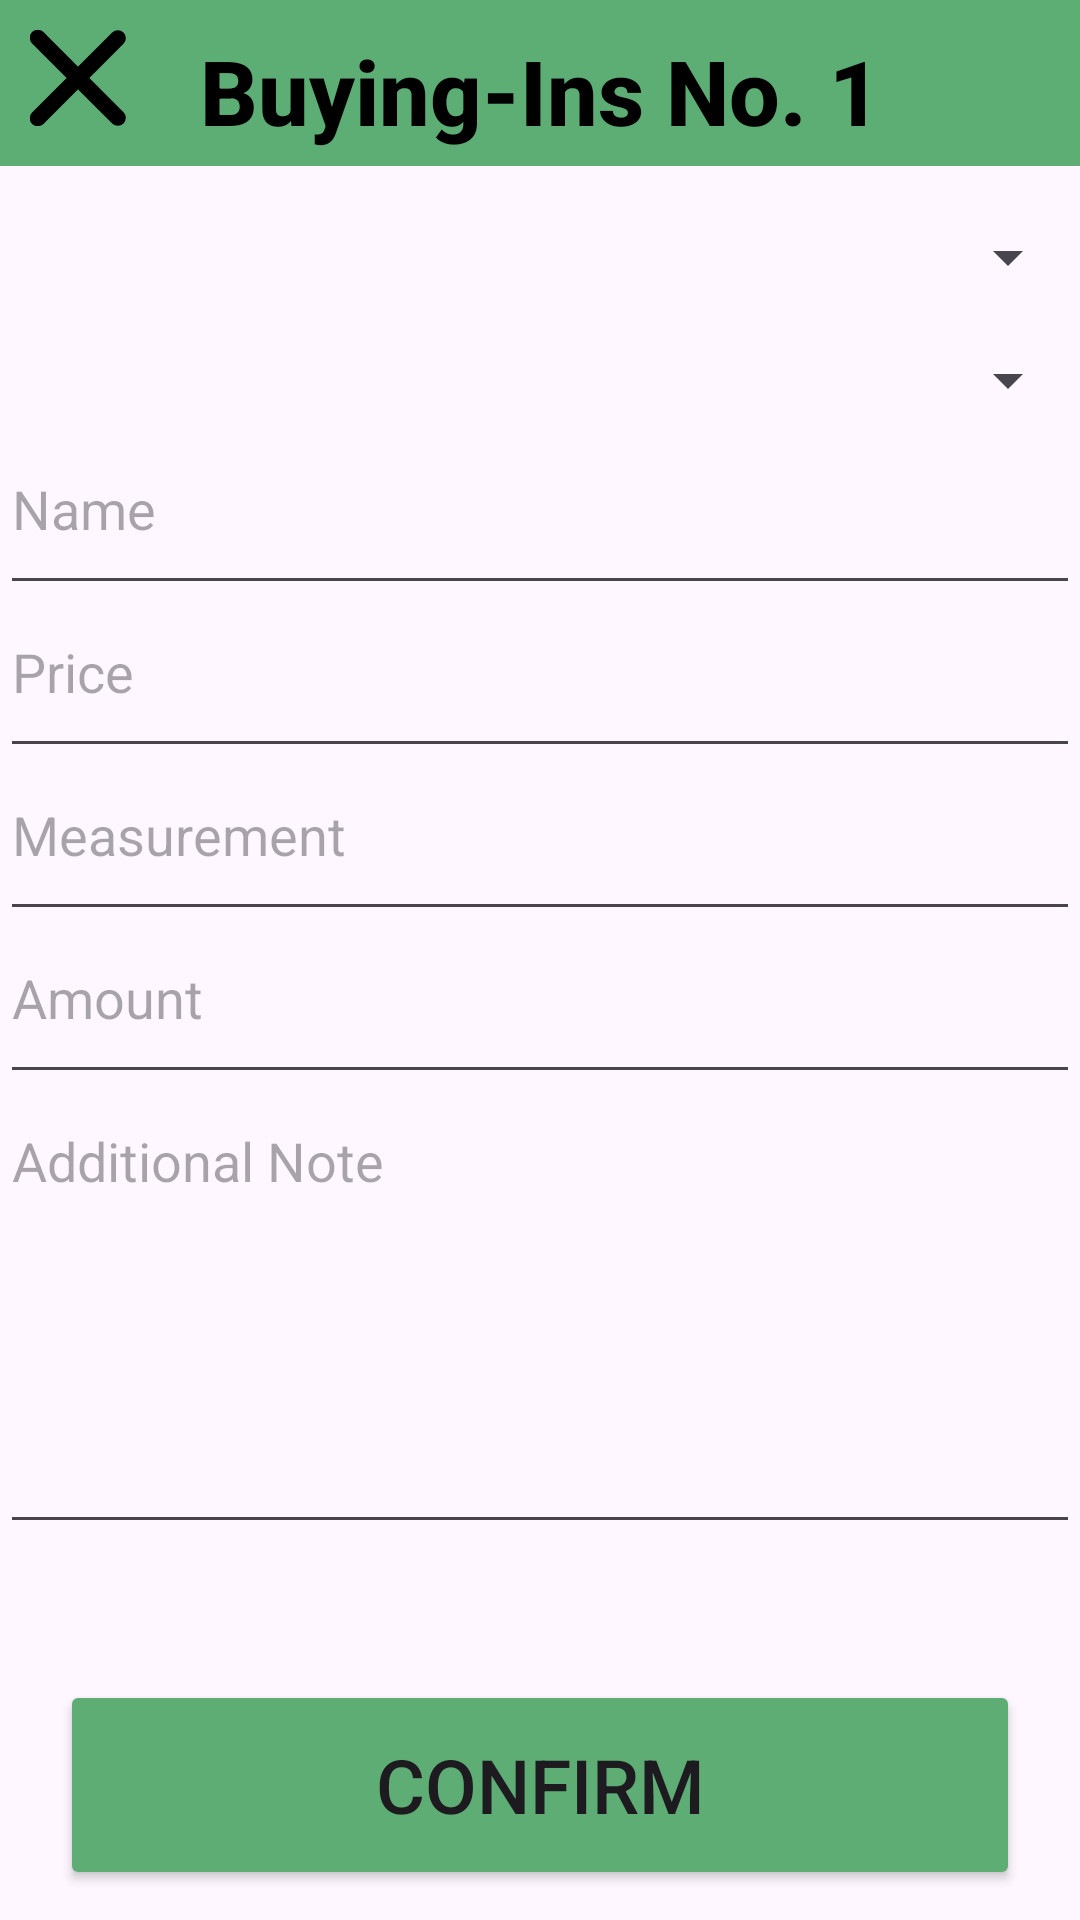

Named icons in this screenshot (1080 x 1920) and their bounding boxes, Rect(x1, y1, x2, y2):
close: Rect(30, 30, 126, 126)
